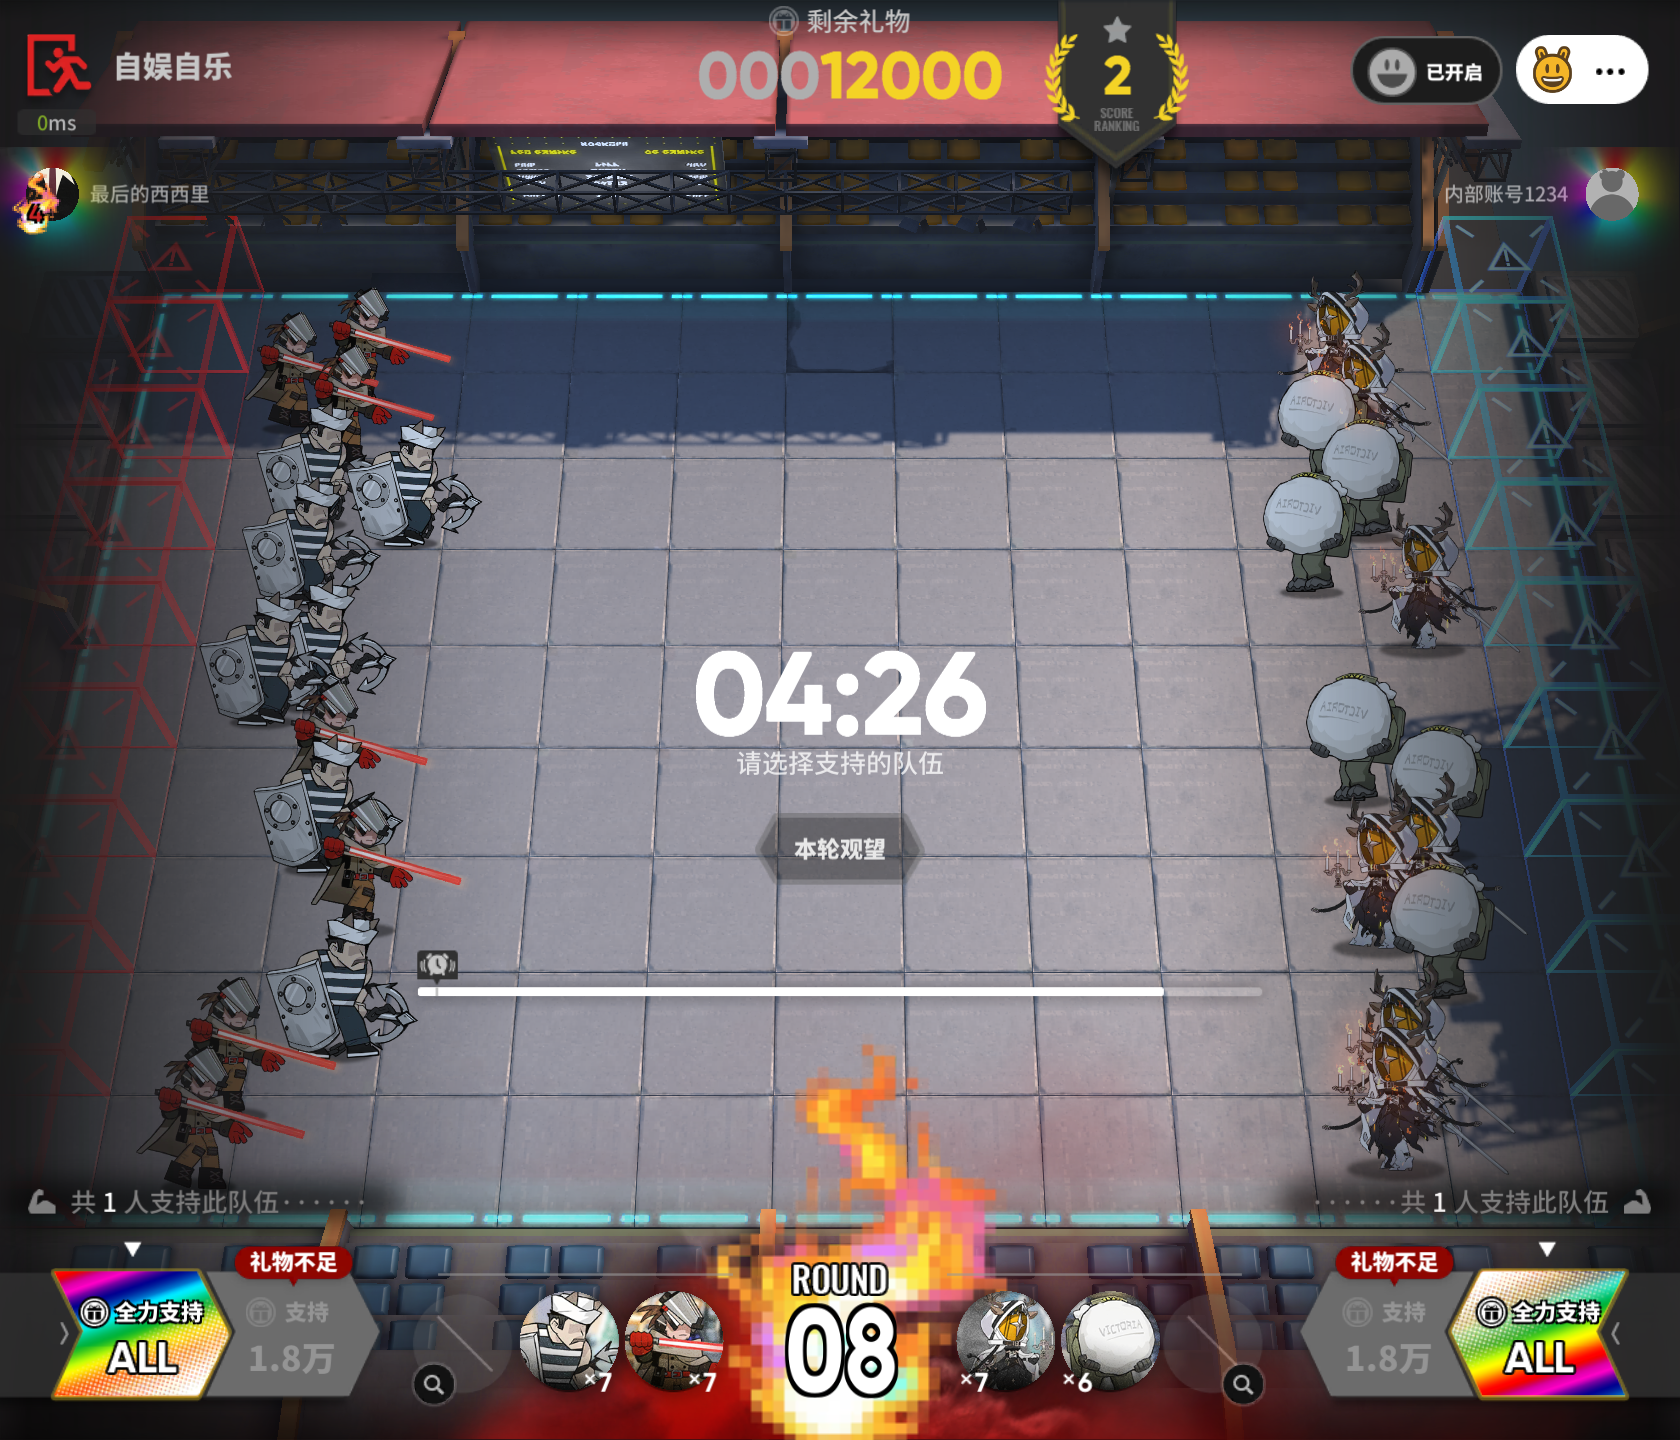巨大雪球投手: (1243, 463, 1374, 604), (1394, 844, 1496, 1004), (1291, 659, 1406, 797), (1384, 719, 1506, 839), (1273, 367, 1379, 483), (1309, 419, 1421, 526), (1061, 1284, 1166, 1394)
弧光武士: (149, 1049, 309, 1191), (321, 777, 464, 929), (184, 970, 354, 1094), (296, 323, 450, 451), (280, 671, 446, 790), (310, 276, 459, 381), (624, 1281, 740, 1397), (247, 307, 349, 439)
点灯骑士: (1327, 1007, 1506, 1197), (1361, 483, 1506, 660), (1357, 956, 1491, 1126), (1329, 793, 1447, 971), (1277, 271, 1396, 423), (1396, 779, 1503, 933), (954, 1286, 1061, 1397), (1336, 354, 1429, 460)
过气水手: (269, 911, 416, 1060), (291, 566, 401, 733), (253, 720, 370, 876), (199, 581, 313, 733), (346, 420, 481, 546), (231, 494, 359, 611), (256, 407, 377, 529), (519, 1289, 619, 1391)
